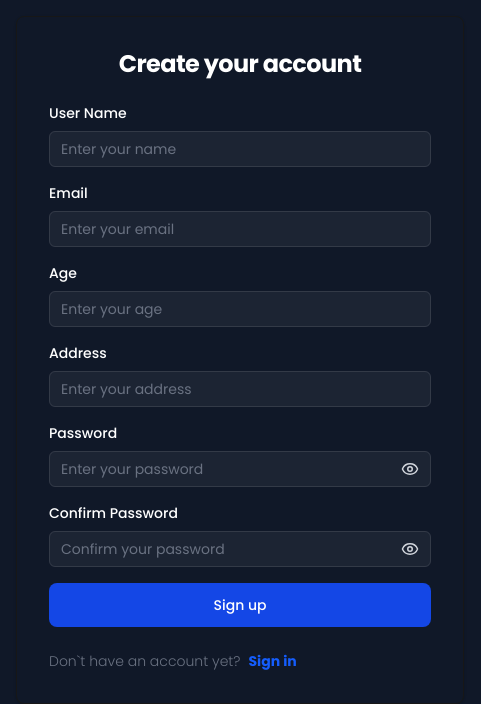
it: RegisterForm component › shows validation for invalid values
In the field labelled "User Name": (240, 149) [49,131,431,167], type "J"
In the field labelled "Email": (240, 229) [49,211,431,247], type "bad-email"
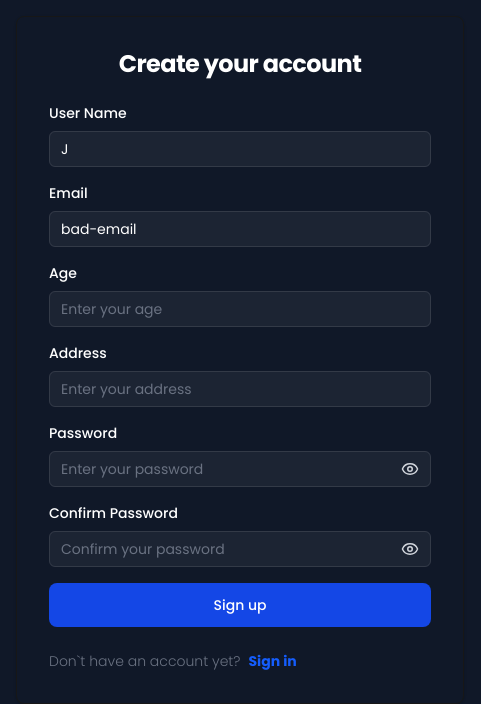
In the number field labelled "Age": (240, 309) [49,291,431,327], type "-1"
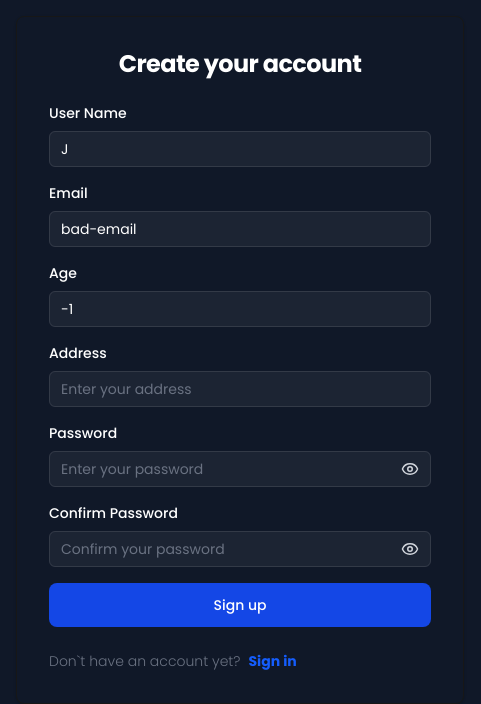
In the field labelled "Address": (240, 389) [49,371,431,407], type "Delhi"
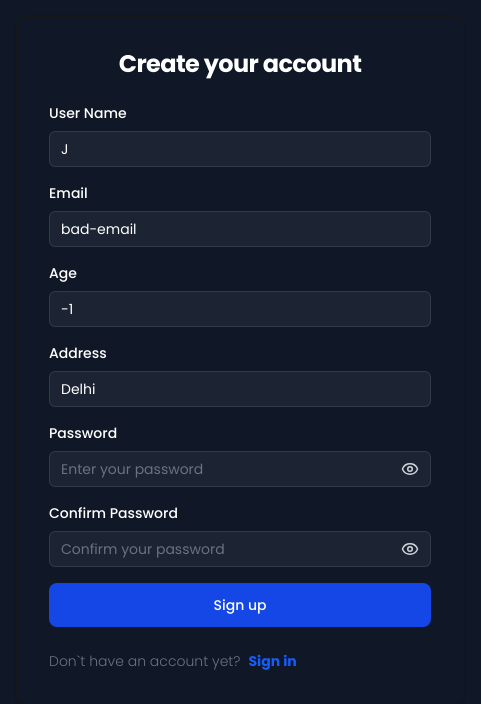
In the password field labelled "Password": (240, 469) [49,451,431,487], type "123"
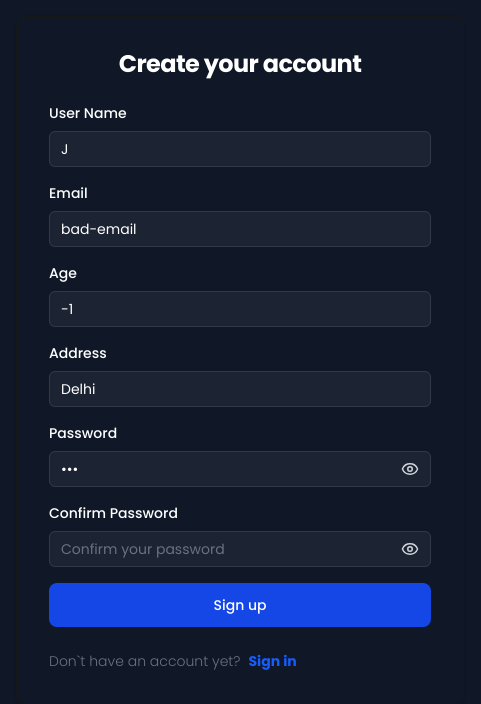
In the password field labelled "Confirm Password": (240, 549) [49,531,431,567], type "456"
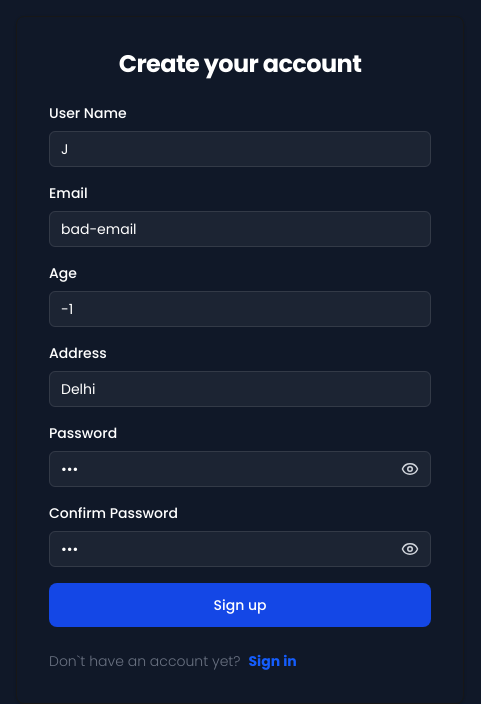
Click the button "Sign up": (240, 605) [49,583,431,627]
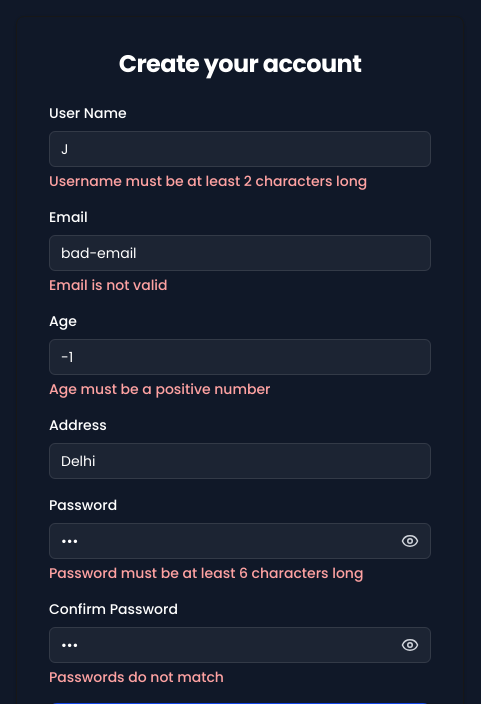
Expected: the text "Username must be at least 2 characters long" is shown, [49,171,367,191]
Expected: the text "Email is not valid" is shown, [49,275,168,295]
Expected: the text "Password must be at least 6 characters long" is shown, [49,563,363,583]
